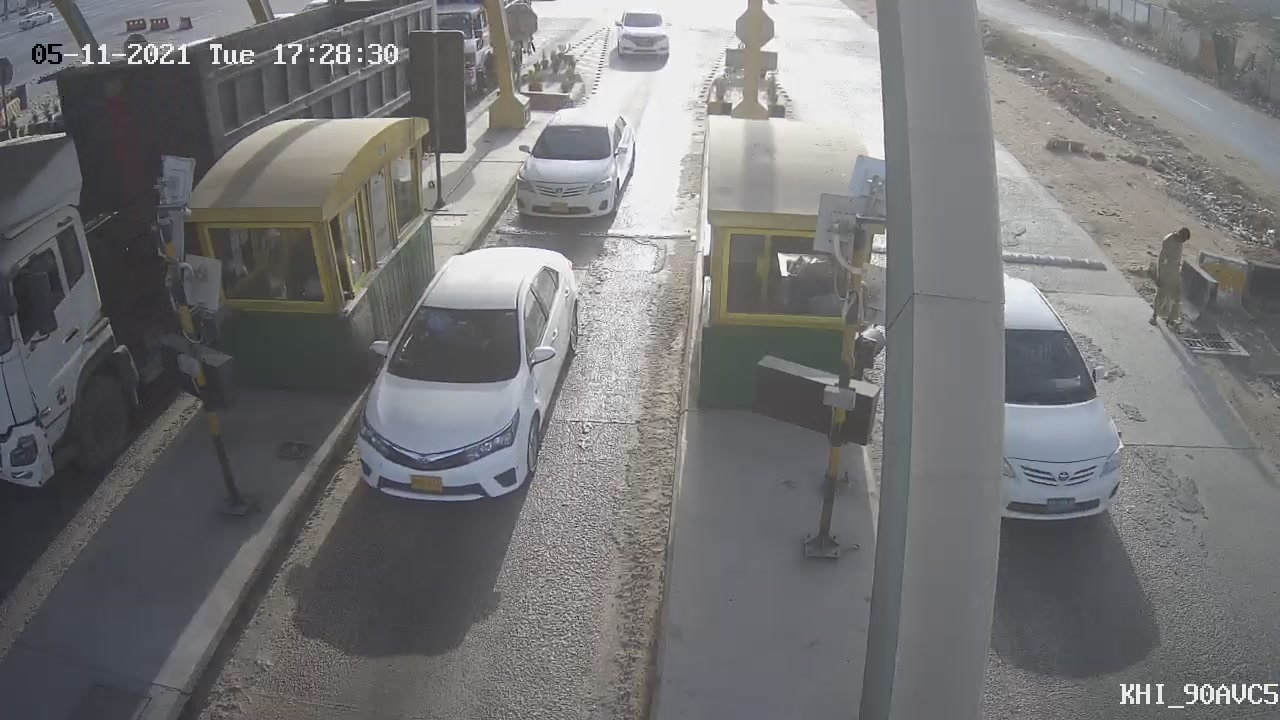F1: (333, 226, 608, 538), (493, 89, 653, 244)
